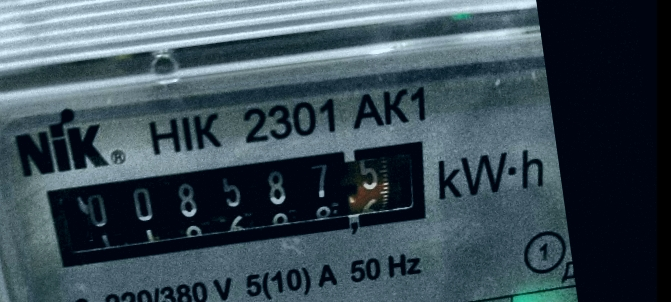0: (127, 181, 157, 224)
1: (82, 188, 111, 232)
5: (354, 151, 384, 194), (218, 170, 246, 211)
7: (306, 159, 334, 202)
8: (171, 177, 202, 221), (262, 165, 289, 209)
screen: (24, 116, 454, 292)
